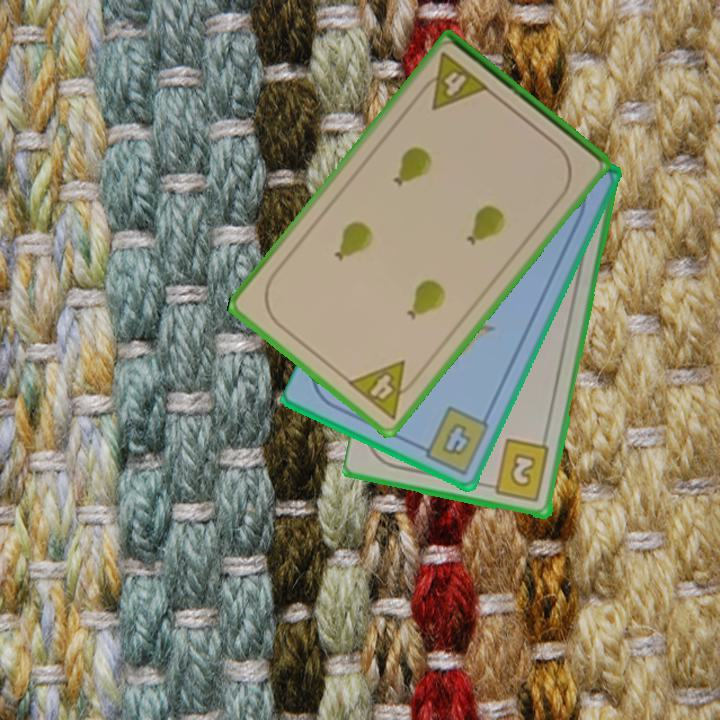2b: (483, 436, 553, 505)
4b: (413, 403, 493, 478)
4p: (343, 357, 424, 423), (414, 49, 492, 113)
